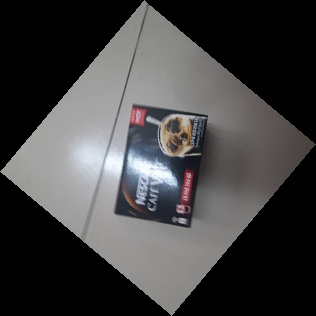CF Viet: (112, 103, 209, 229)
